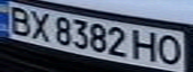2: (106, 25, 130, 58)
3: (69, 17, 90, 51)
8: (87, 20, 109, 54), (51, 15, 72, 46)
B: (3, 3, 36, 36)
H: (130, 29, 160, 63)
O: (154, 34, 184, 66)
X: (24, 9, 54, 43)
